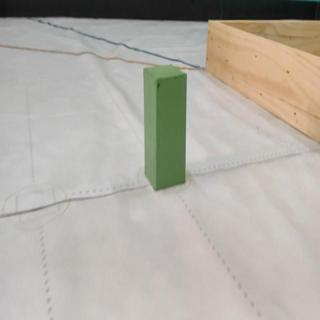greenbox: (142, 63, 189, 193)
